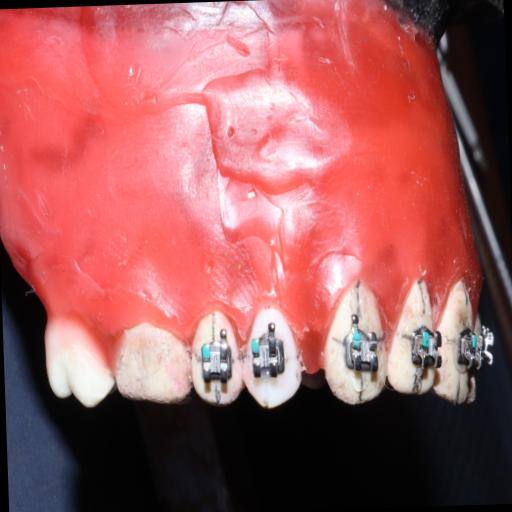correct_brace: (242, 304, 301, 414)
